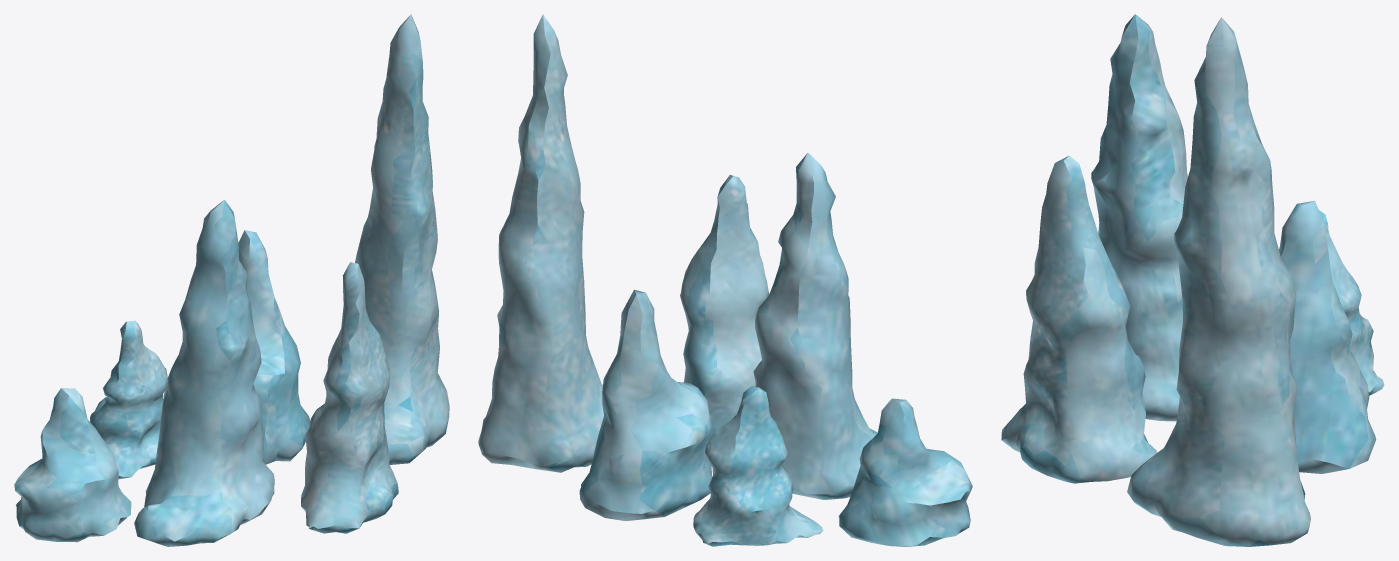
File: picos.obj
3 views of the same model, side by side, from view 1: azimuth 30°, elevation 25°; view 2: azimuth 150°, elevation 25°; view 3: azimuth 270°, elevation 25° (orthographic). The views are drawn at different scales.
Parts seen in each view (by area): view 1: Picos_nieve_Picos; view 2: Picos_nieve_Picos; view 3: Picos_nieve_Picos.
Part boxes in pixels (x1,y1,x2,y2): Picos_nieve_Picos: (14,14,449,546); Picos_nieve_Picos: (478,14,972,546); Picos_nieve_Picos: (1001,14,1384,546).
Bounding box in the file's own units: 2.33 × 2.11 × 1.42.
1 material, 1 textured.
